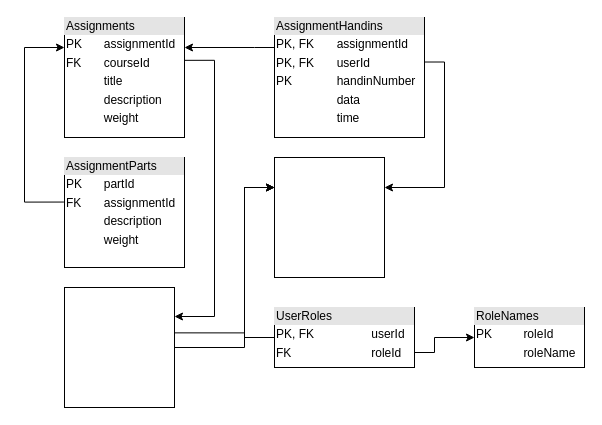
The diagram is 602 pixels wide and 425 high, and some of its shapes have lost their labels. Each missing label, with the centre of its shape:
Courses PK courseId FK teacherId FK taId title description: the point at 119,347
Users PK userId name email password SSN: the point at 329,217
